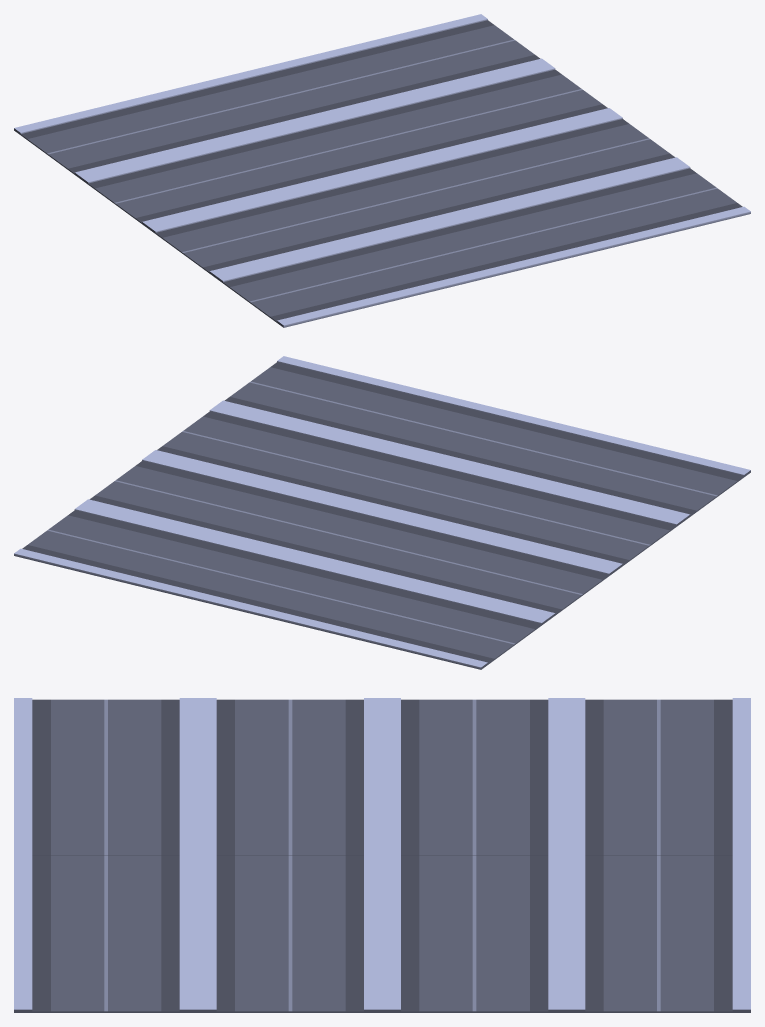
File: test_world.glb
3 renders of one model, top to bottom at view 1: azimuth 30°, elevation 25°; view 2: azimuth 150°, elevation 25°; view 3: azimuth 270°, elevation 25°, orthographic. The views are drawn at different scales.
Visible parts, largest first — view 1: road-straight.012, road-straight.013, road-straight.014, road-straight.015, road-straight.004, road-straight.003, road-straight.011, road-straight.007, road-straight.001, road-straight.005, road-straight.008, road-straight.002 (+4 smaller); view 2: road-straight.004, road-straight.005, road-straight.006, road-straight.007, road-straight.012, road-straight.003, road-straight.011, road-straight.015, road-straight, road-straight.009, road-straight.013, road-straight.010 (+4 smaller); view 3: road-straight.001, road-straight.006, road-straight.009, road-straight.014, road-straight, road-straight.007, road-straight.015, road-straight.008, road-straight.004, road-straight.005, road-straight.012, road-straight.013 (+4 smaller).
Boxes of the visible parts, bbox=[...] form: road-straight.012: bbox=[216, 247, 400, 327]; road-straight.013: bbox=[333, 219, 517, 299]; road-straight.014: bbox=[567, 162, 750, 242]; road-straight.015: bbox=[450, 190, 634, 270]; road-straight.004: bbox=[14, 99, 197, 179]; road-straight.003: bbox=[81, 149, 265, 228]; road-straight.011: bbox=[149, 198, 332, 277]; road-straight.007: bbox=[248, 42, 431, 120]; road-straight.001: bbox=[432, 63, 615, 141]; road-straight.005: bbox=[131, 71, 314, 148]; road-straight.008: bbox=[383, 141, 566, 218]; road-straight.002: bbox=[199, 120, 381, 197]; road-straight.004: bbox=[364, 589, 548, 669]; road-straight.005: bbox=[247, 561, 431, 641]; road-straight.006: bbox=[14, 504, 197, 584]; road-straight.007: bbox=[130, 532, 314, 612]; road-straight.012: bbox=[567, 441, 750, 521]; road-straight.003: bbox=[432, 540, 615, 619]; road-straight.011: bbox=[499, 491, 683, 570]; road-straight.015: bbox=[333, 384, 516, 462]; road-straight: bbox=[198, 483, 381, 560]; road-straight.009: bbox=[149, 405, 332, 483]; road-straight.013: bbox=[450, 413, 633, 490]; road-straight.010: bbox=[383, 462, 565, 539]; road-straight.001: bbox=[382, 931, 566, 1012]; road-straight.006: bbox=[566, 931, 750, 1012]; road-straight.009: bbox=[198, 931, 382, 1012]; road-straight.014: bbox=[14, 931, 198, 1012]; road-straight: bbox=[382, 853, 566, 933]; road-straight.007: bbox=[566, 853, 750, 933]; road-straight.015: bbox=[14, 853, 198, 933]; road-straight.008: bbox=[198, 853, 382, 933]; road-straight.004: bbox=[566, 698, 750, 777]; road-straight.005: bbox=[566, 776, 750, 855]; road-straight.012: bbox=[14, 698, 198, 777]; road-straight.013: bbox=[14, 776, 198, 855].
Size of the model in its own units: 4 by 0.02 by 4.
Materials: 16 (16 with a texture image).
